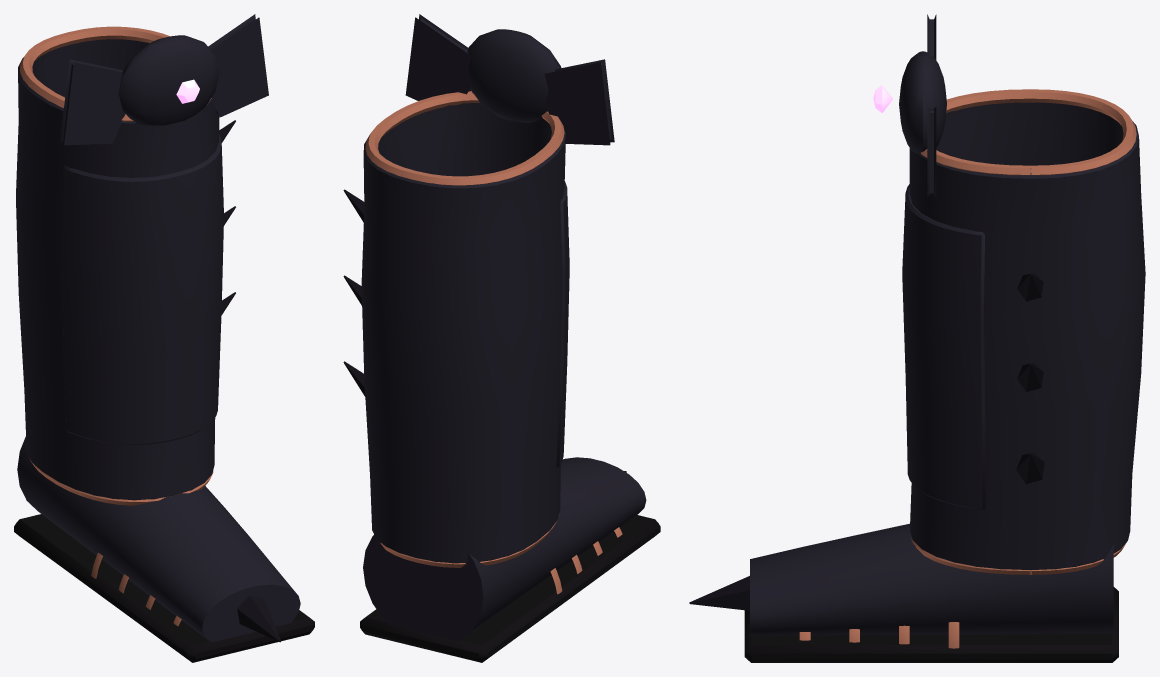
Rendered from boss_obsidian_oath_boots_1.glb.
The picture shows the model from 3 angles, left to right: view 1: azimuth 30°, elevation 25°; view 2: azimuth 150°, elevation 25°; view 3: azimuth 270°, elevation 25°; orthographic projection. The views are drawn at different scales.
Visible parts, largest first — view 1: boss_obsidian_oath_boots_1, AT_foot_L; view 2: boss_obsidian_oath_boots_1, AT_foot_L; view 3: boss_obsidian_oath_boots_1, AT_foot_L.
Part boxes in pixels (bbox=[...]): boss_obsidian_oath_boots_1: bbox=[16, 14, 268, 505]; AT_foot_L: bbox=[14, 436, 314, 662]; boss_obsidian_oath_boots_1: bbox=[343, 14, 614, 567]; AT_foot_L: bbox=[360, 457, 660, 662]; boss_obsidian_oath_boots_1: bbox=[873, 14, 1145, 574]; AT_foot_L: bbox=[689, 523, 1118, 662].
Bounding box in the file's own units: 0.2427 × 0.5768 × 0.4142.
